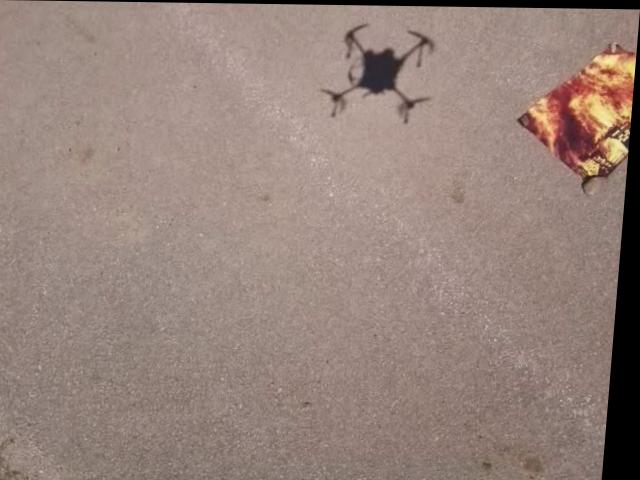fire-poster: (513, 37, 638, 194)
